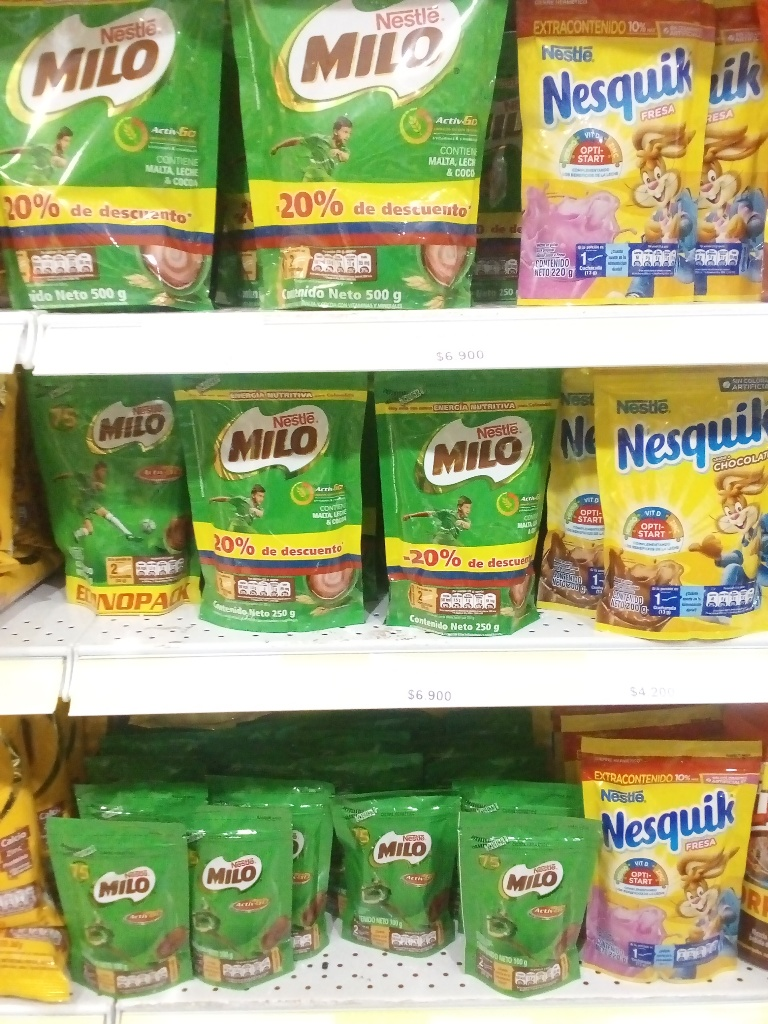COL0170203DYP10000: (51, 822, 184, 1006)
COL0170303DYP20000: (570, 370, 766, 643)
